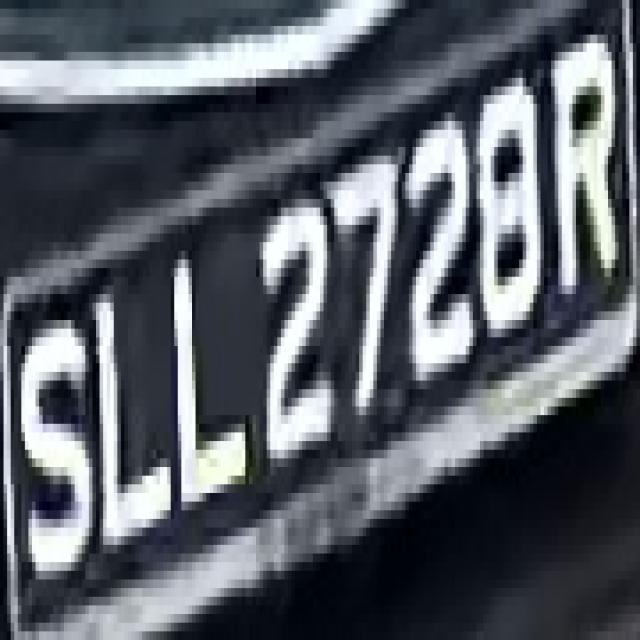2: (238, 173, 338, 484), (402, 121, 484, 398)
7: (331, 147, 409, 441)
8: (469, 69, 544, 355)
L: (150, 216, 252, 528), (81, 251, 170, 536)
R: (551, 43, 619, 329)
S: (7, 277, 100, 588)
